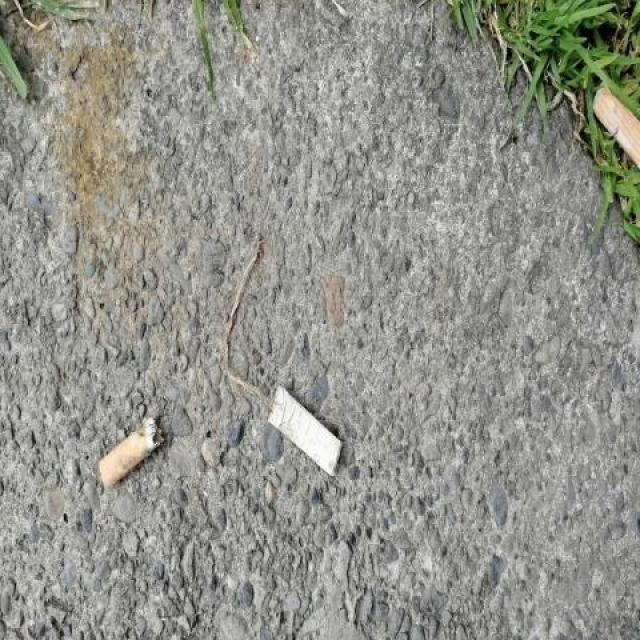non-organic waste: (265, 382, 350, 481), (95, 411, 167, 493), (586, 80, 640, 174)
